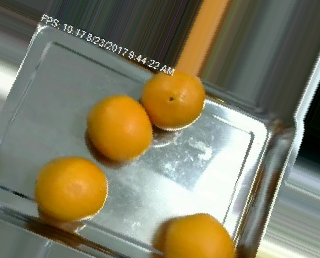Orange: (35, 155, 109, 222), (84, 93, 153, 163), (163, 211, 238, 258)
